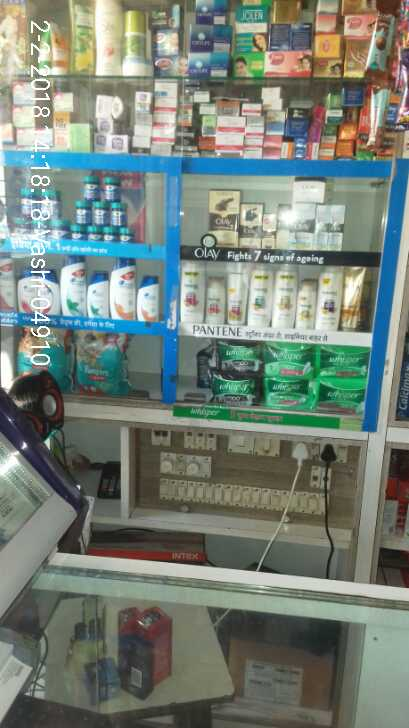beauty: (293, 178, 326, 251), (59, 254, 89, 319), (271, 263, 299, 329), (209, 189, 240, 248), (108, 260, 136, 320), (248, 260, 273, 327), (224, 260, 248, 328), (318, 266, 343, 330), (343, 267, 366, 335), (180, 260, 204, 324), (240, 202, 264, 254), (136, 274, 160, 323), (86, 267, 108, 319), (319, 205, 343, 251), (296, 279, 318, 329), (206, 275, 225, 323), (263, 210, 275, 247)
pharmacy: (75, 331, 136, 402), (210, 335, 268, 375), (317, 342, 372, 384), (264, 337, 315, 381), (208, 367, 262, 408), (264, 374, 319, 405), (317, 379, 365, 414), (73, 198, 94, 229), (103, 175, 123, 203), (110, 200, 127, 231), (81, 175, 99, 200), (92, 198, 108, 225)
